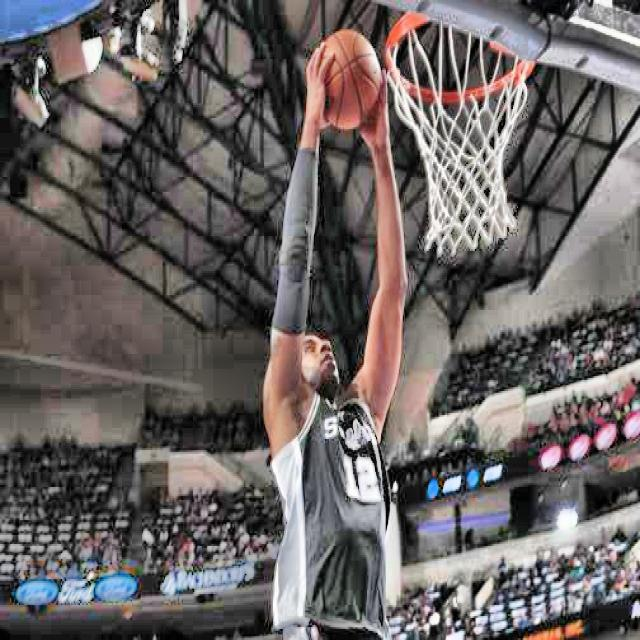board: (312, 28, 382, 132)
rim: (387, 10, 545, 246)
